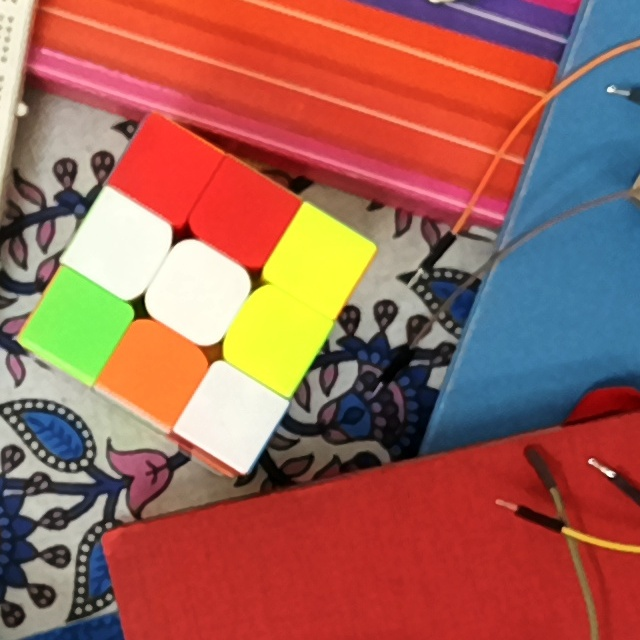tile: (122, 341, 189, 400), (165, 263, 225, 325), (286, 233, 347, 292), (200, 388, 263, 444), (93, 217, 150, 277), (212, 187, 273, 243), (50, 298, 108, 354), (245, 312, 304, 366), (139, 145, 194, 195)
